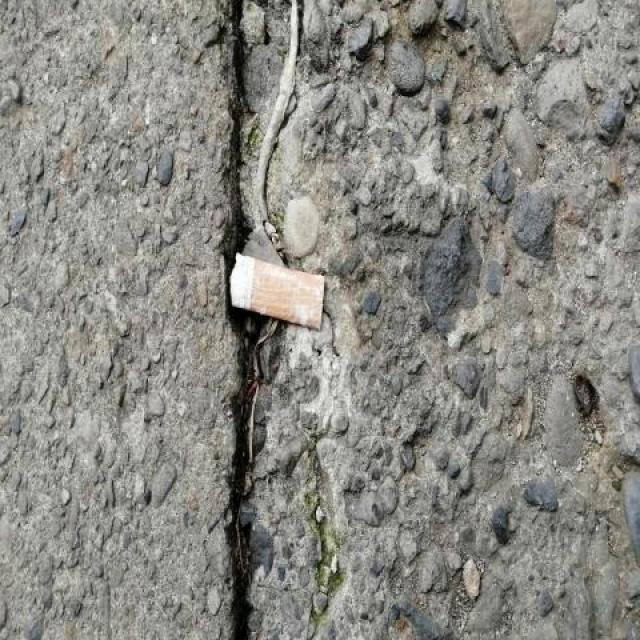non-organic waste: (224, 250, 328, 335)
